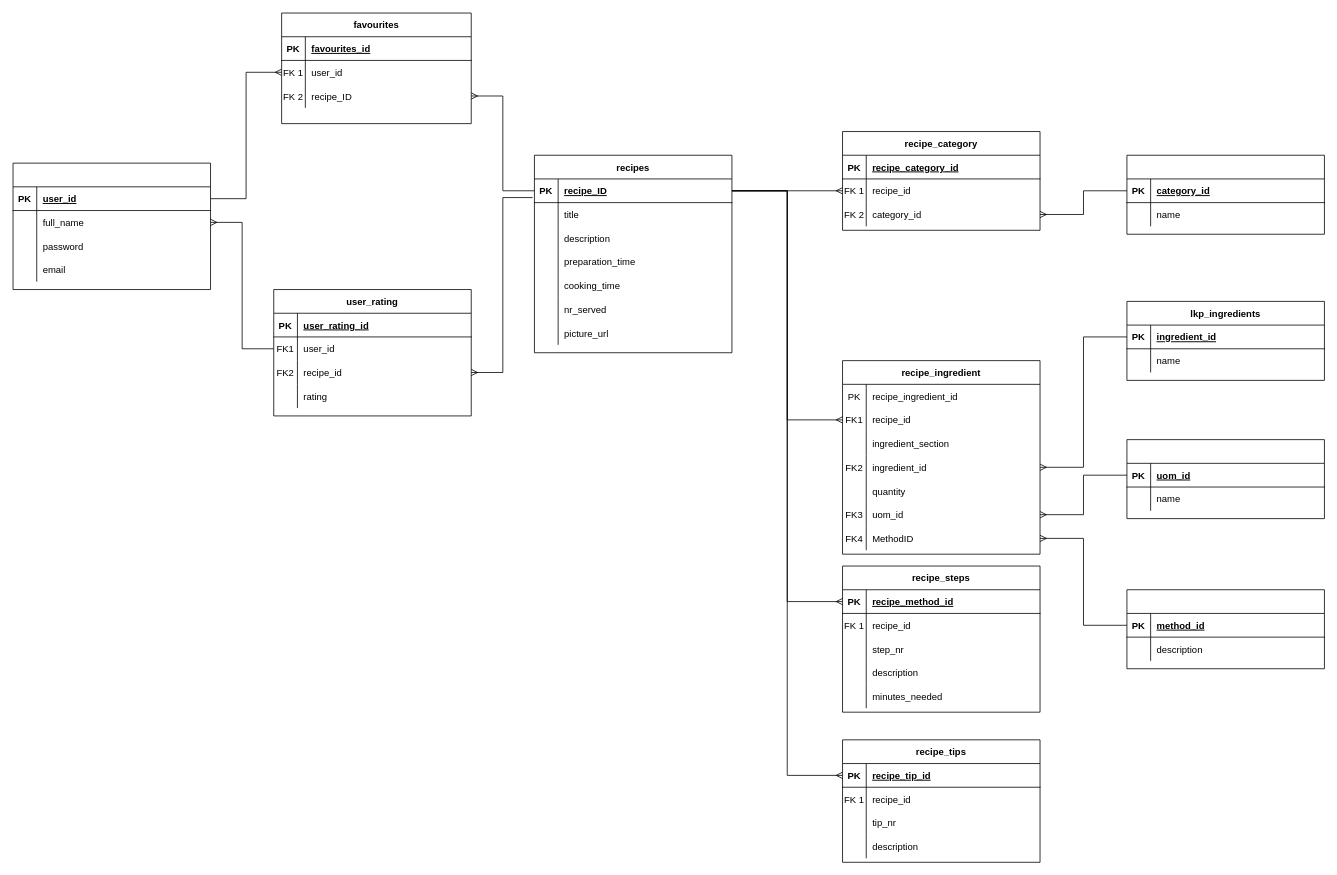
Image size: 1337x875. Some labels were removed from this diagram. The shapes that lost their labels are listed below. From the top down, each one's box as (x1, y1, x2, y2) in pixels, then its label:
(1126, 154, 1324, 234): lkp_categories
(12, 162, 211, 290): users
(1126, 439, 1324, 519): lkp_unit_of_measure
(1126, 589, 1324, 669): lkp_Method
